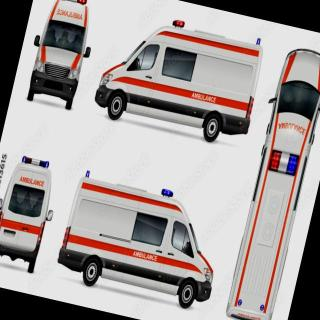Ambulance: (81, 2, 278, 180)
